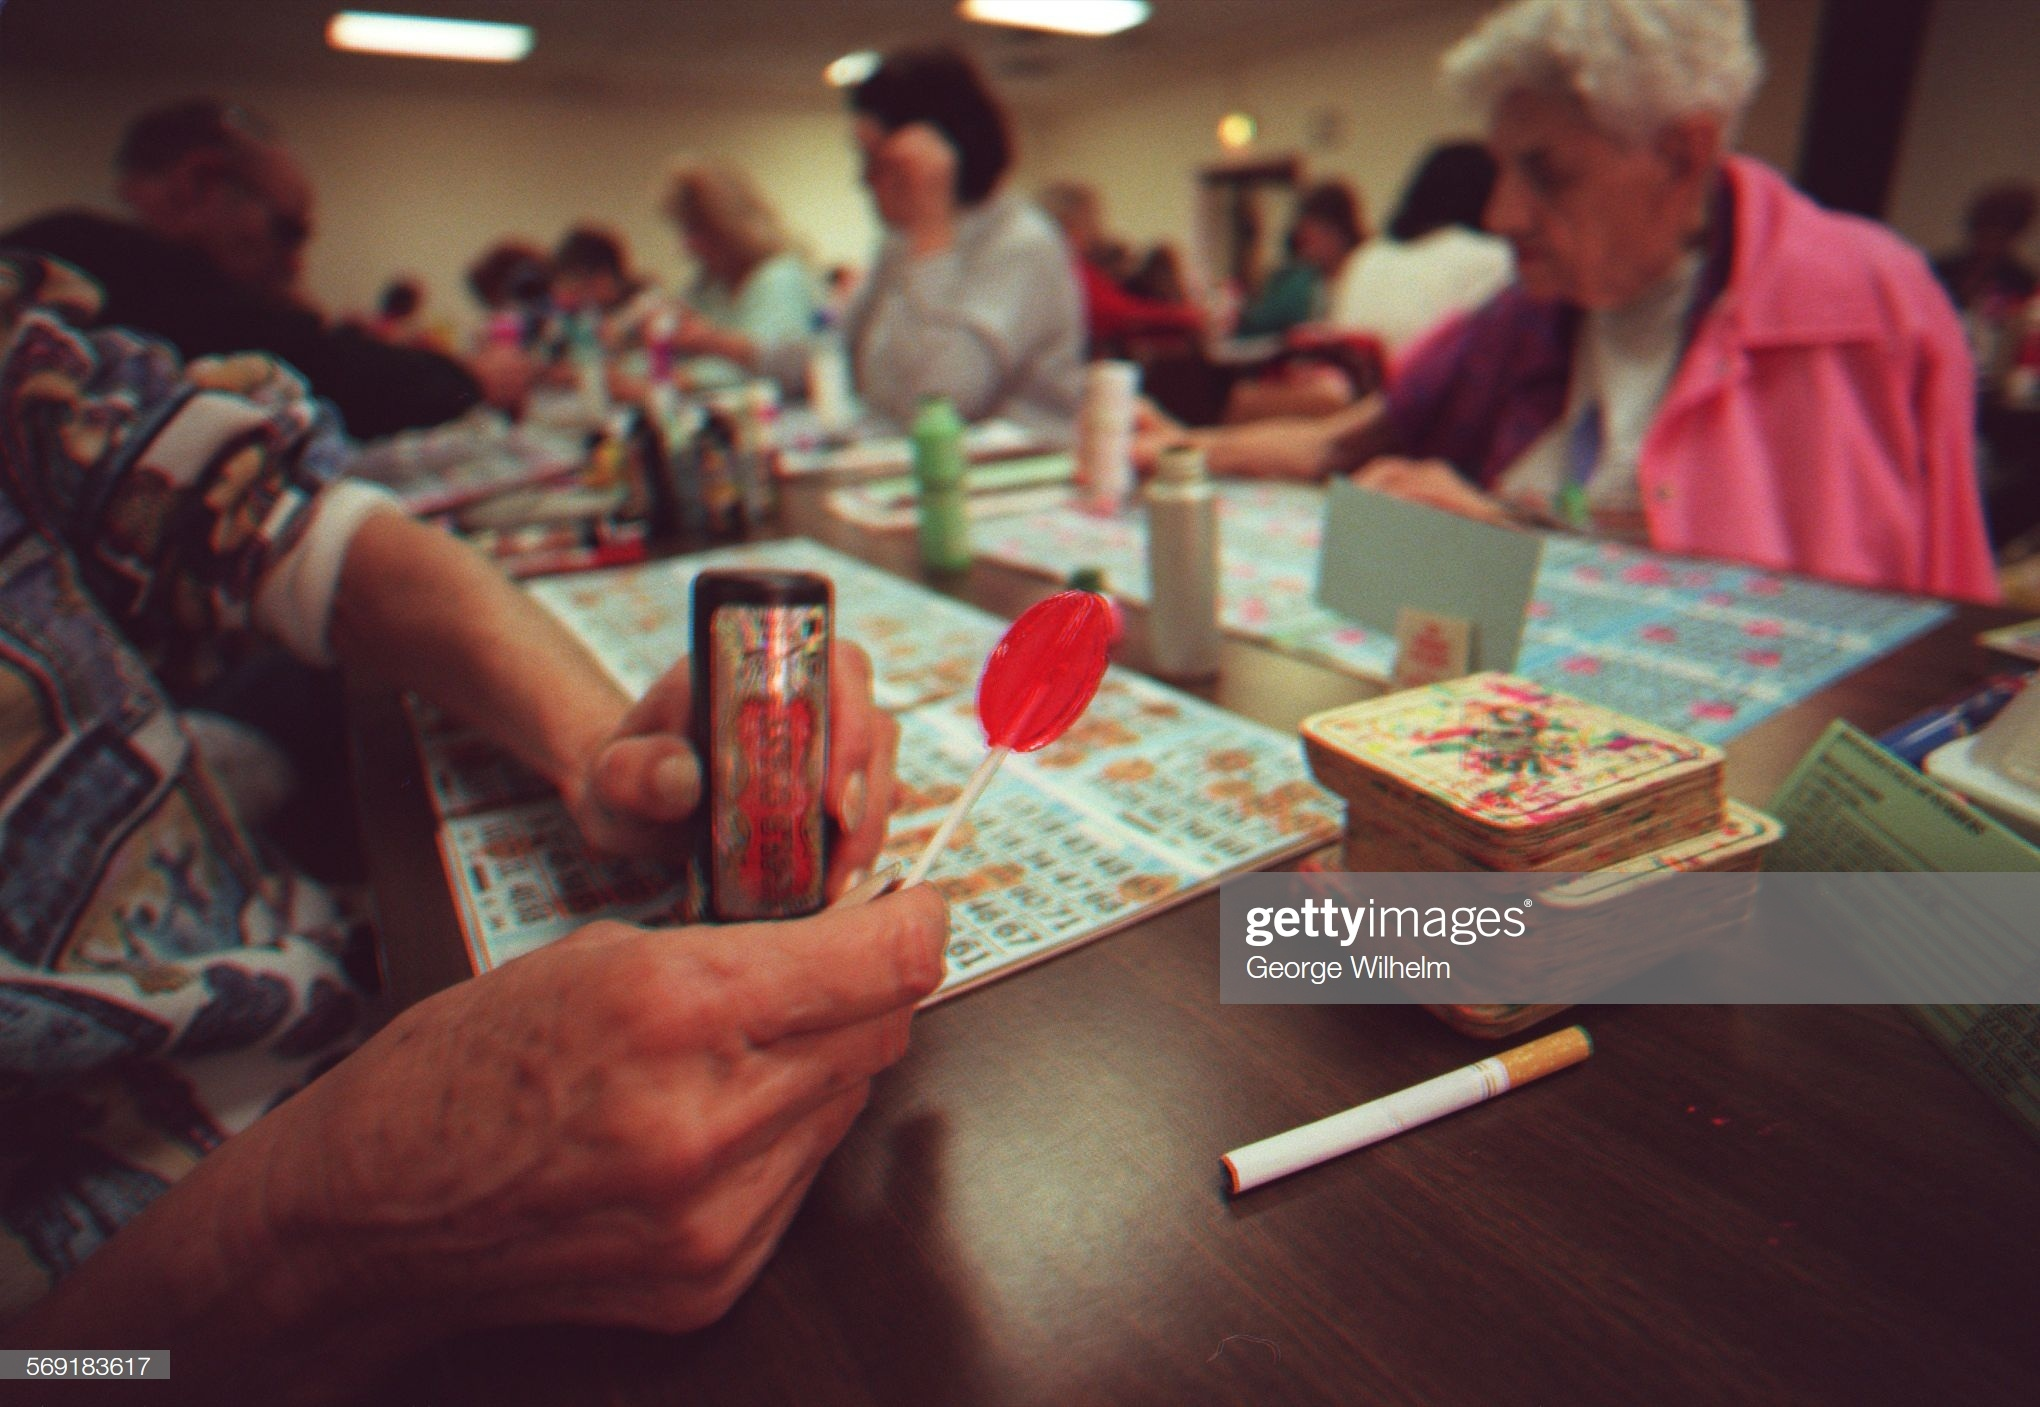sigaretta: (1212, 1012, 1581, 1199)
